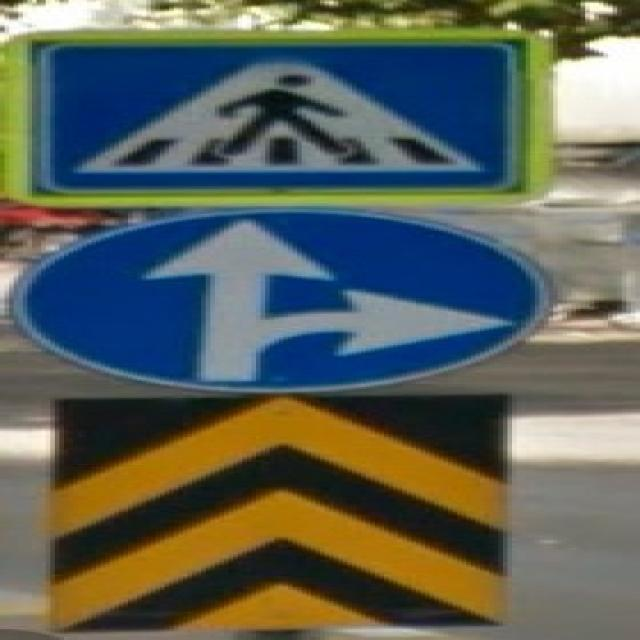Straight or Right: (15, 211, 550, 395)
